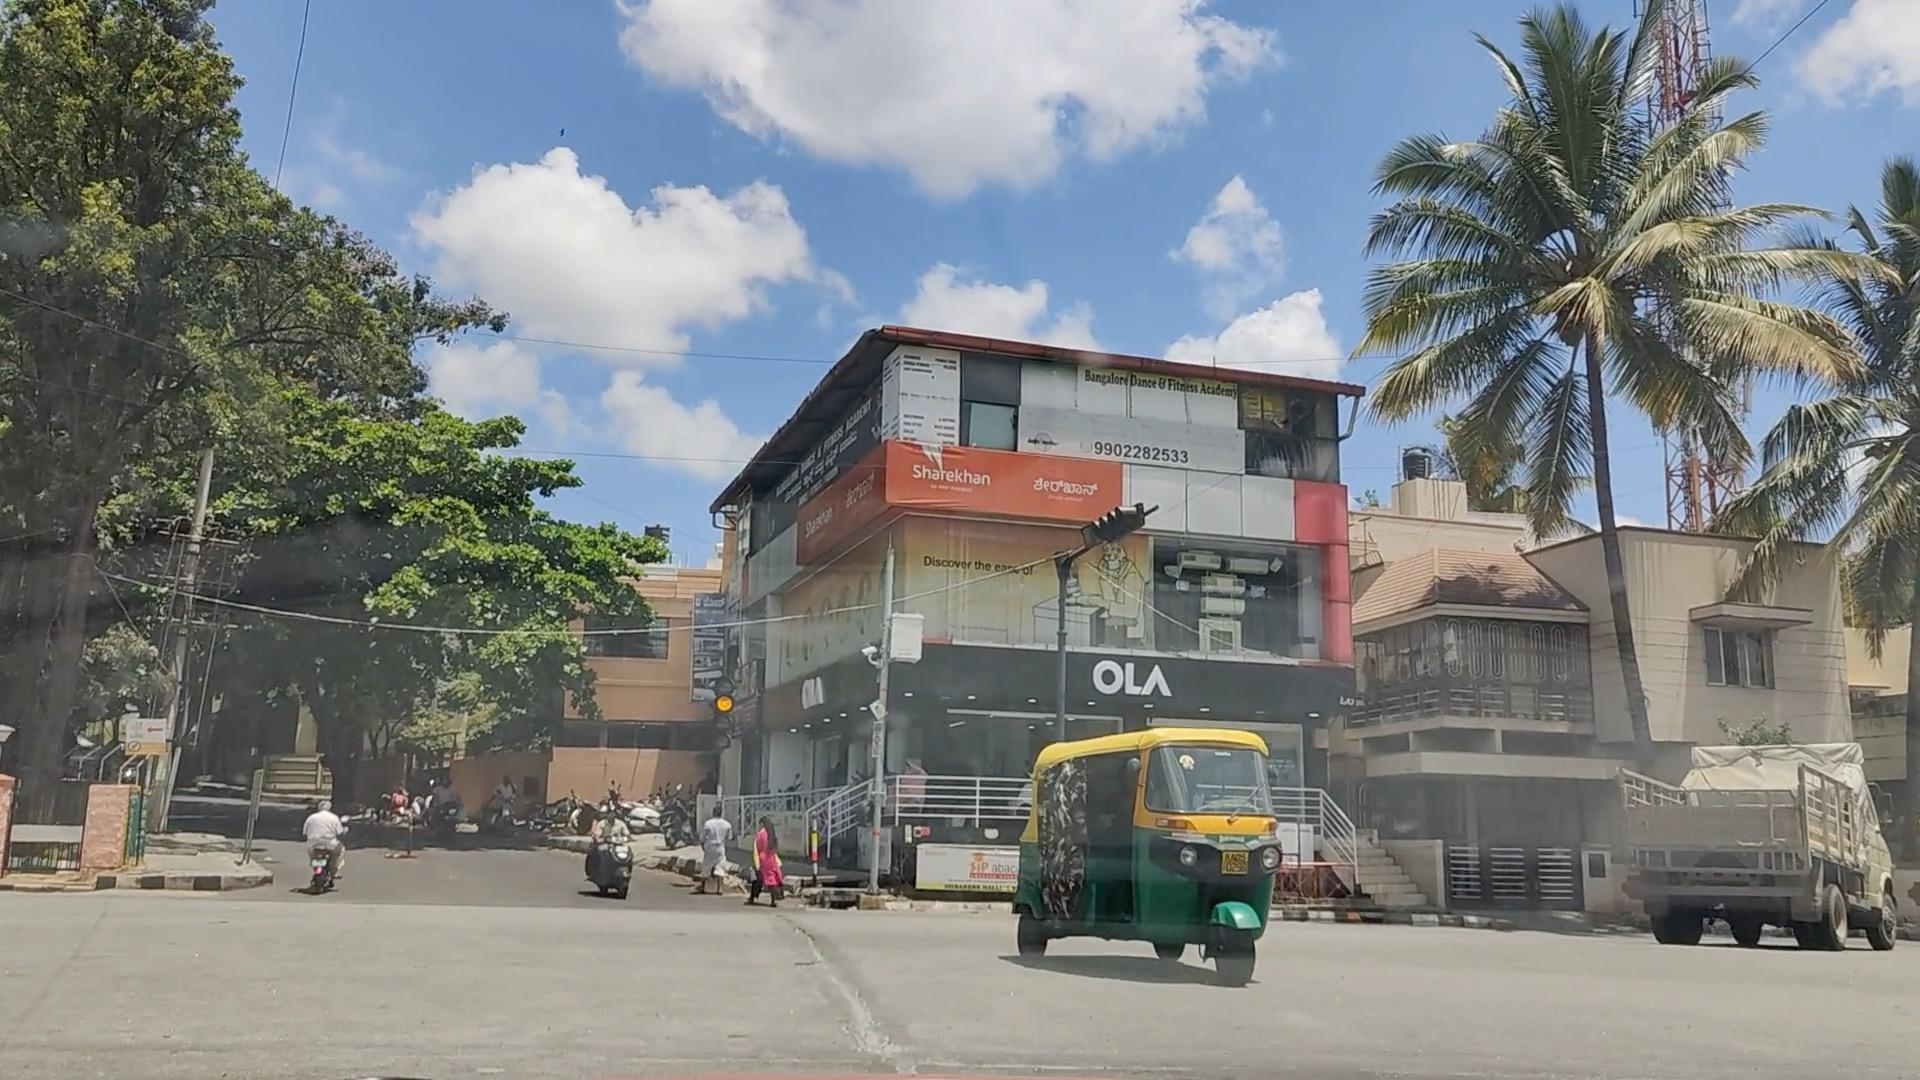HMV: (1613, 737, 1878, 905)
LMV: (1023, 740, 1249, 992)
RoadDamages: (746, 899, 985, 1080)
